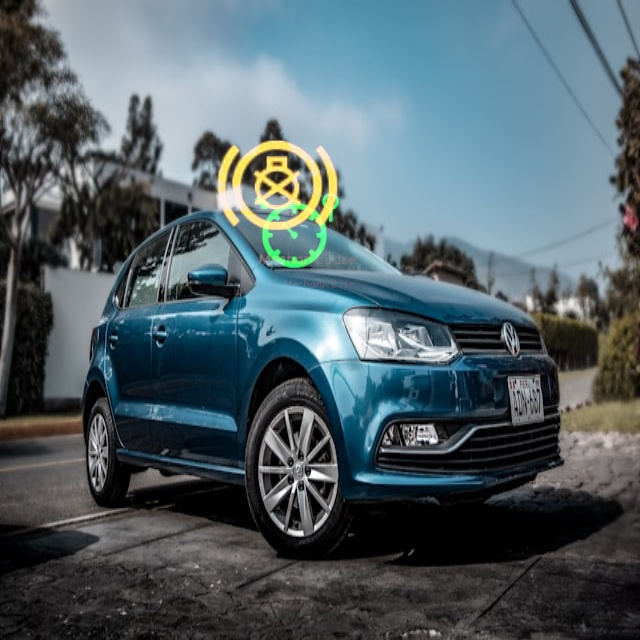symbol: (191, 101, 363, 273), (234, 169, 359, 294)
